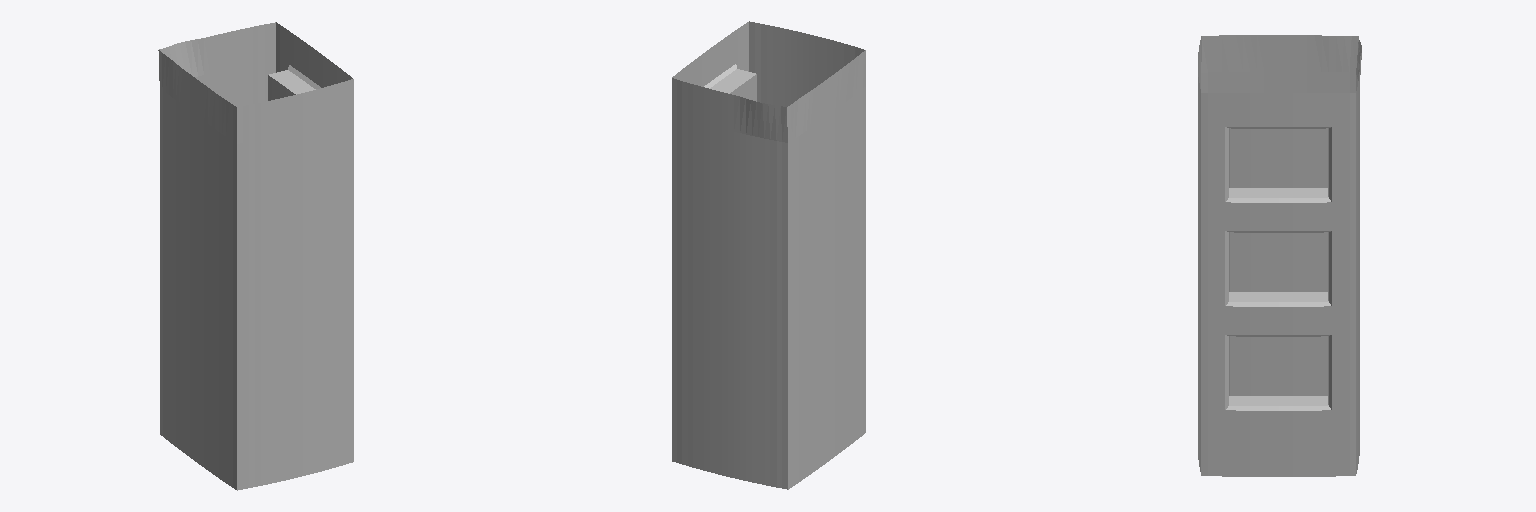
The model's file is Only Bottom Mid Base.obj.
3 views of the same model, side by side, from view 1: azimuth 30°, elevation 25°; view 2: azimuth 150°, elevation 25°; view 3: azimuth 270°, elevation 25° (orthographic).
Parts seen in each view (by area): view 1: Bottom_Thing; view 2: Bottom_Thing; view 3: Bottom_Thing.
Part boxes in pixels (x1,y1,x2,y2): Bottom_Thing: (158,22,353,490); Bottom_Thing: (672,21,865,489); Bottom_Thing: (1198,35,1361,476).
Size of the model in its own units: 18.38 by 56.47 by 21.96.